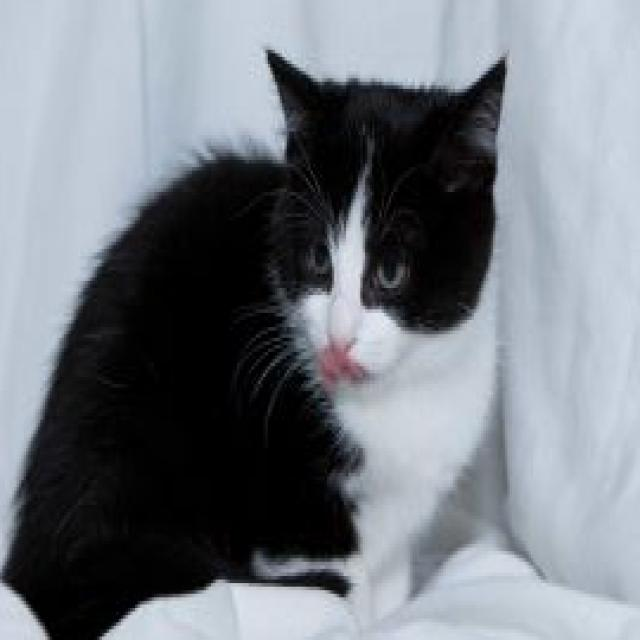Tuxedo: (0, 42, 509, 640)
